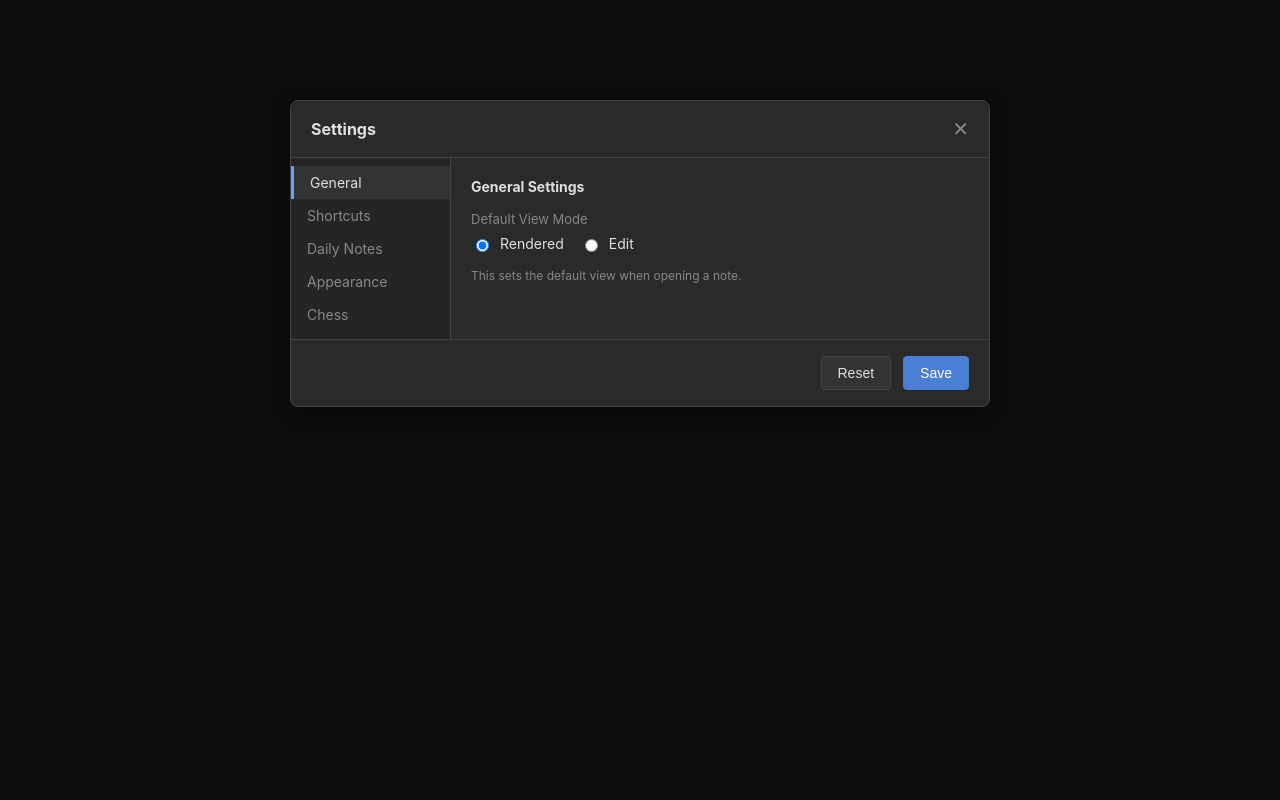
Test: SettingsModal › switches to Appearance section when clicked
Step 1. Click the text "Appearance" → (347, 282), box [307,273,388,290]
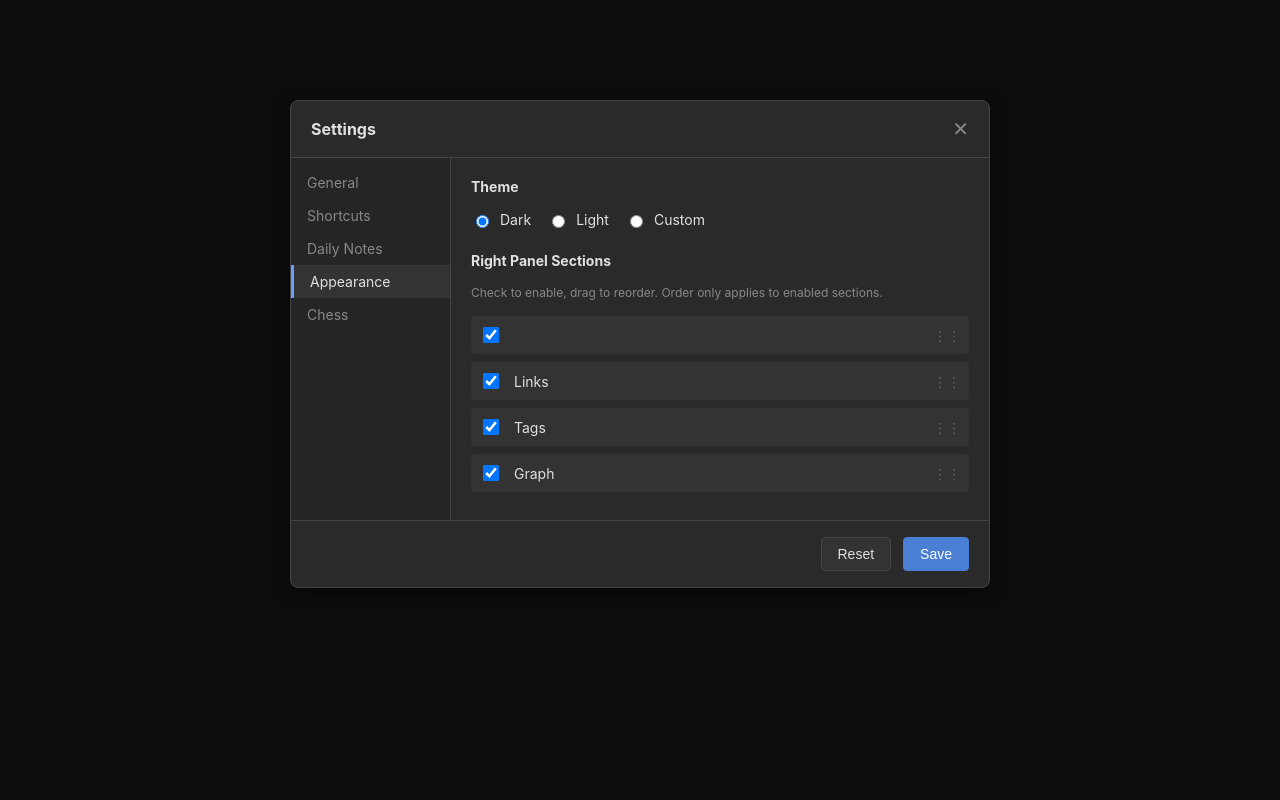
Result: the text "Right Panel Sections" is shown at [471,252,611,269]
